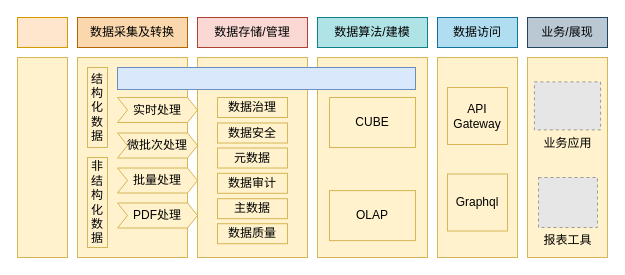
Some shapes in this 625 by 275 pixel diagram are drawn without their labels. Grey dashed boxes stand in for pictures. Here are the shapes that lost their labels. From the top down, the centre of each, then its label:
At (x=42, y=32): "数据源".
At (x=266, y=78): "Federation Manager".
At (x=42, y=157): "客户 EOMO ePortal ODM Assets DAM Wechat ...".
